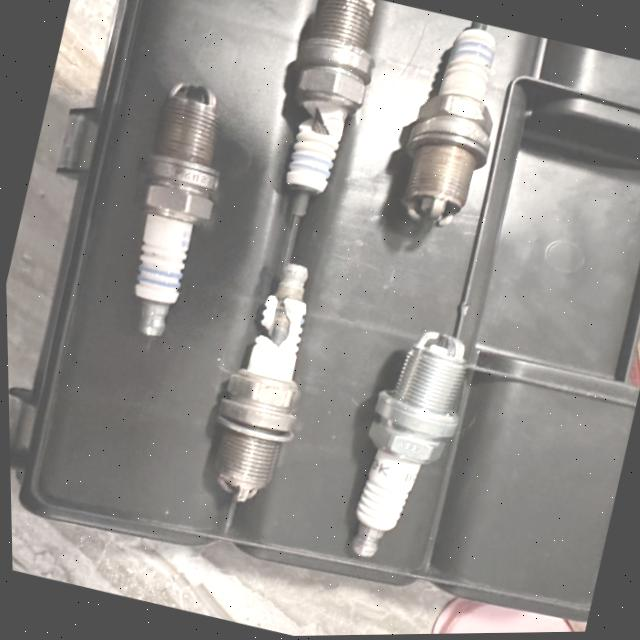damaged_spark-plug: (198, 248, 336, 511), (253, 0, 388, 233)
spark-plug: (317, 317, 487, 578), (103, 78, 242, 347), (377, 13, 524, 239)
